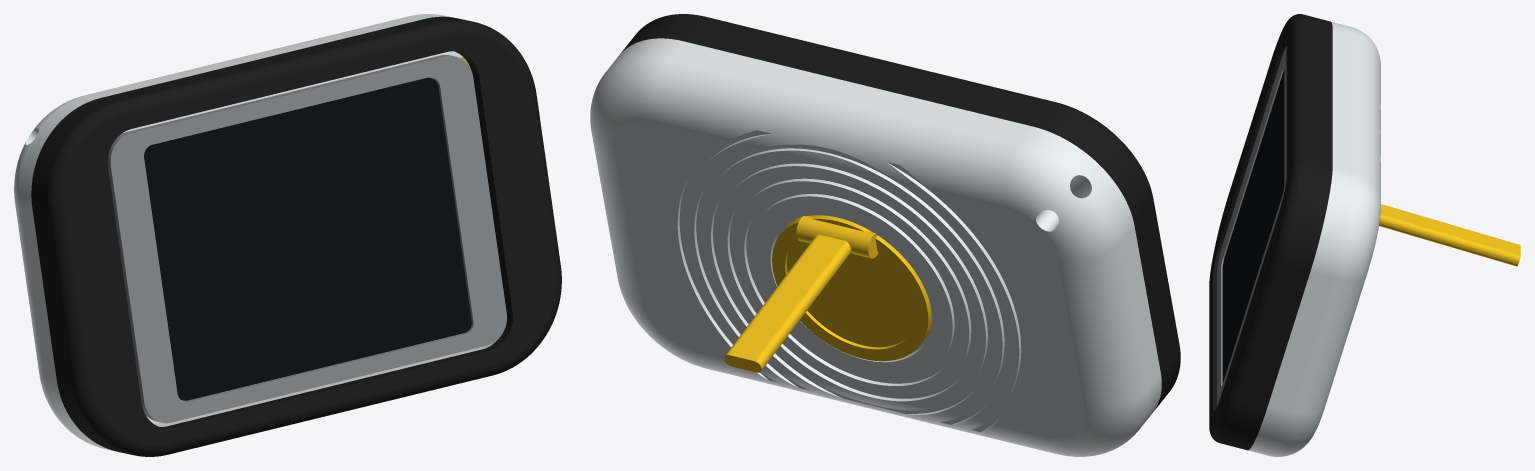
File: hibrit.glb
3 renders of one model, left to right at view 1: azimuth 30°, elevation 25°; view 2: azimuth 150°, elevation 25°; view 3: azimuth 270°, elevation 25°, orthographic. The views are drawn at different scales.
Visible parts, largest first — view 1: ekran, on_govde, panel, arka_kapak; view 2: arka_kapak, on_govde, tabla, cubuk; view 3: on_govde, arka_kapak, ekran, cubuk, panel.
Part boxes in pixels (x1,y1,x2,y2): ekran: (144,77,471,400); on_govde: (31,16,561,456); panel: (107,55,506,423); arka_kapak: (14,14,495,451); arka_kapak: (590,38,1161,456); on_govde: (621,14,1180,409); tabla: (772,215,931,361); cubuk: (724,216,878,372); on_govde: (1209,14,1332,450); arka_kapak: (1248,21,1380,456); ekran: (1222,70,1284,382); cubuk: (1379,204,1520,266); panel: (1217,46,1286,406).
Bounding box in the file's own units: 0.102 × 0.0667 × 0.065.
